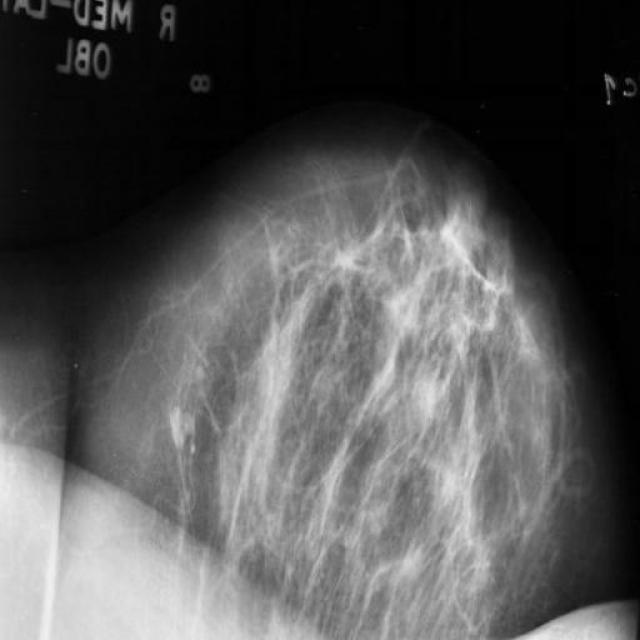cancer: (323, 224, 375, 307)
